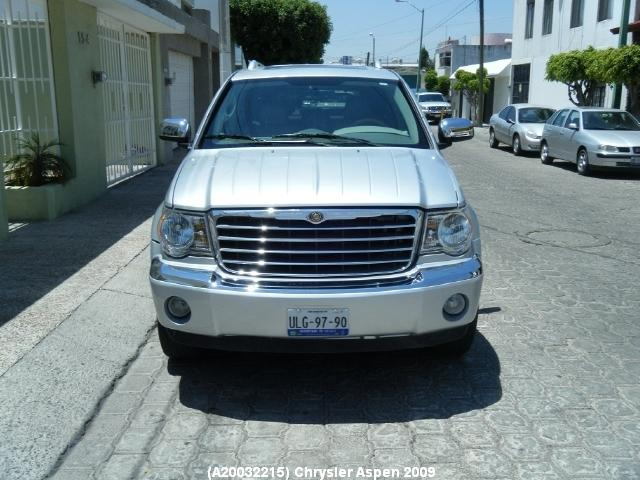Chrysler: (217, 199, 408, 239)
